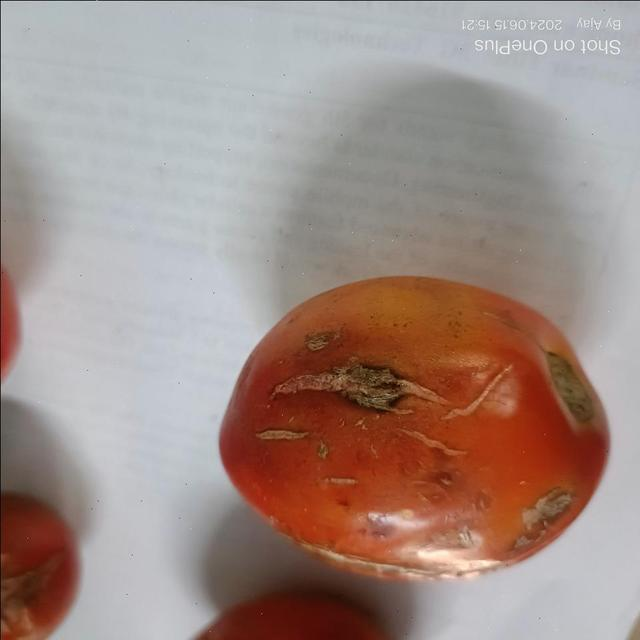Cracking Fruit: (172, 257, 385, 329)
